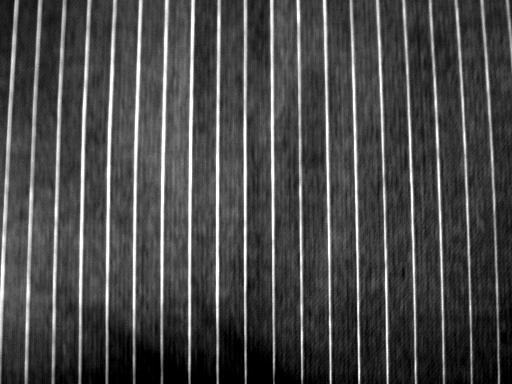fabric_perfect: (1, 2, 509, 384)
